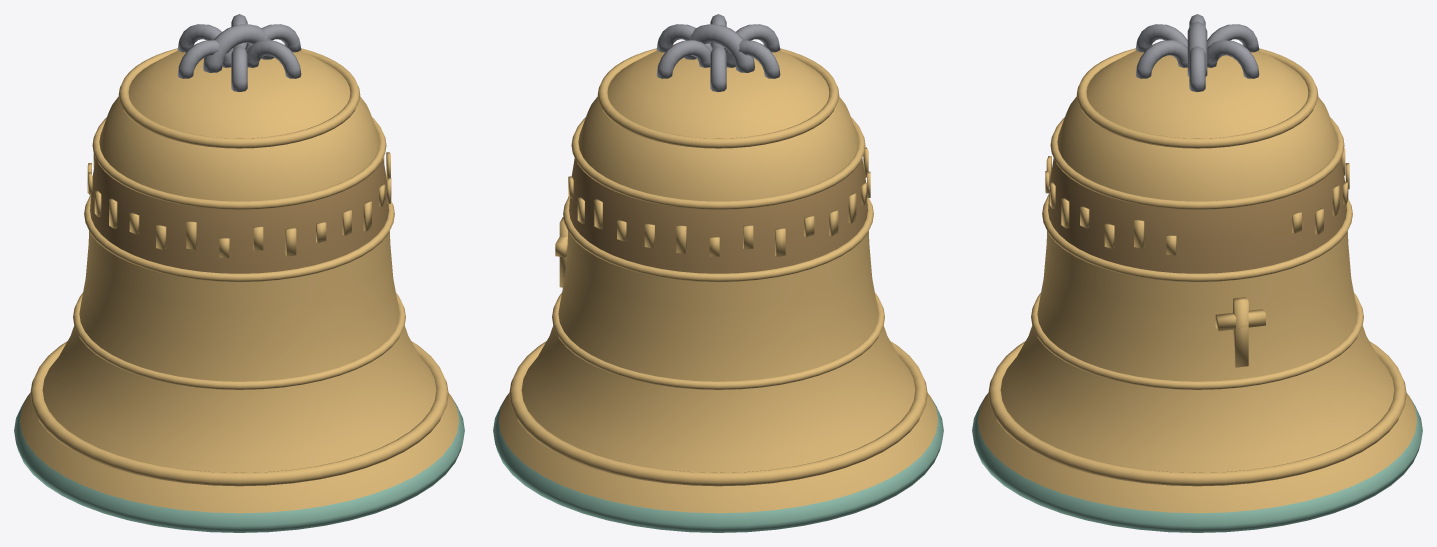
Rendered from cloche_geante.glb.
3 renders of one model, left to right at view 1: azimuth 30°, elevation 25°; view 2: azimuth 150°, elevation 25°; view 3: azimuth 270°, elevation 25°, orthographic.
Visible parts, largest first — view 1: cloche; view 2: cloche; view 3: cloche.
Part boxes in pixels (bbox=[...]): cloche: bbox=[14, 14, 464, 532]; cloche: bbox=[493, 14, 943, 532]; cloche: bbox=[972, 14, 1422, 532].
Bounding box in the file's own units: 1.01 × 1.02 × 1.01.
